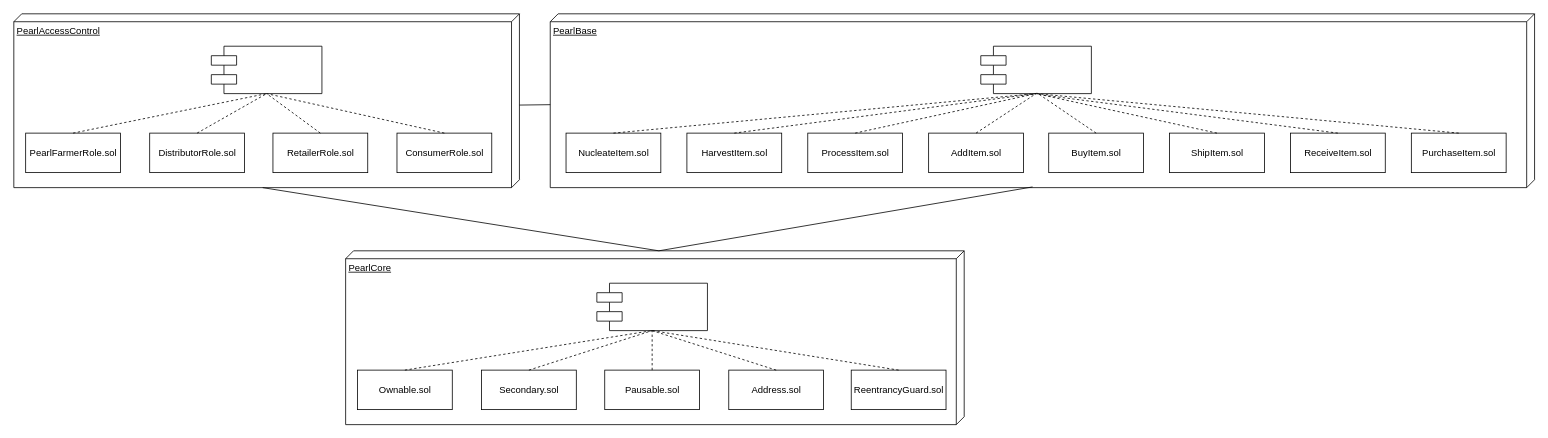
The diagram is 1548 pixels wide and 438 high, and some of its shapes have lost their labels. The shapes that lost their labels are listed below. From the top down, each one's centre as x and y in pixels, then its label:
At point 266,69: "Roles.sol".
At point 1035,69: "SupplyChain.sol".
At point 651,306: "ValueChain.sol".
